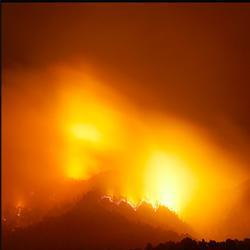fire: (68, 120, 105, 182), (148, 159, 192, 211)
